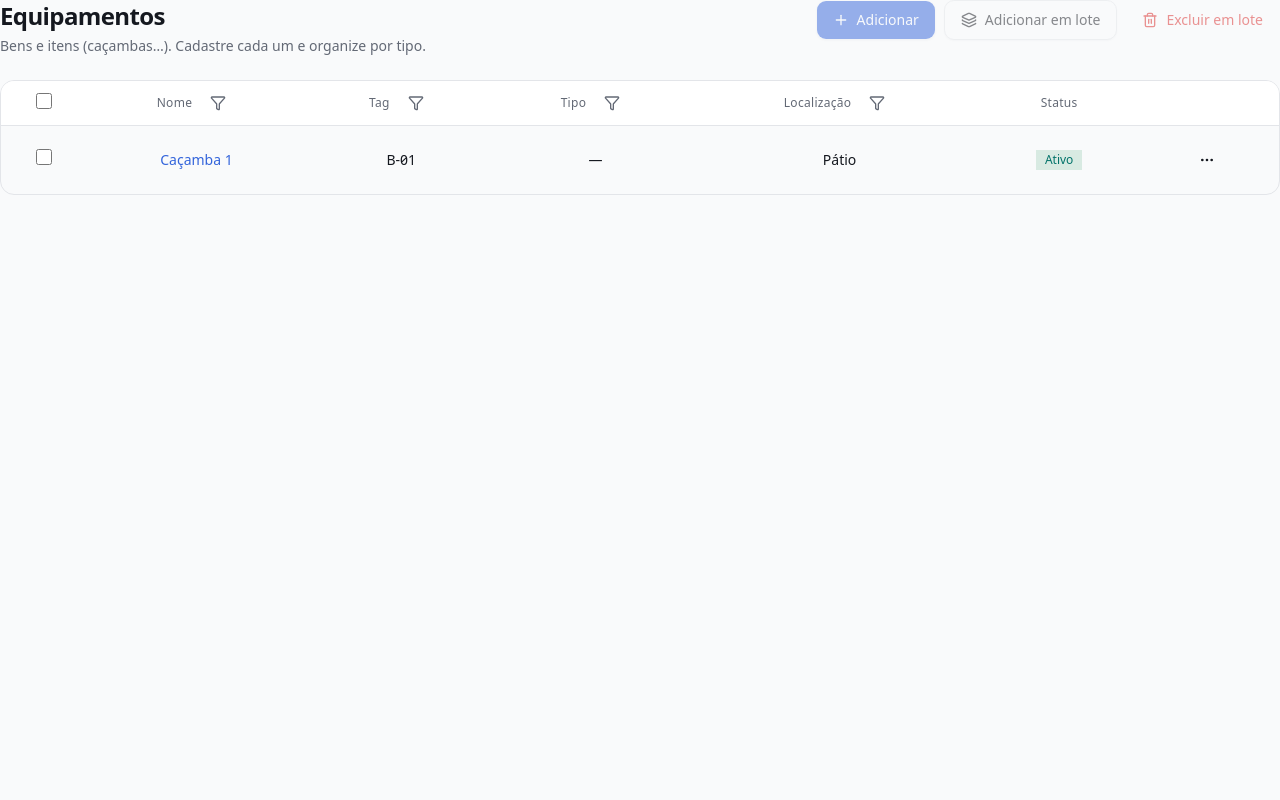
AssetsPage permission-aware load › shows the name and opens the existing view (write access: true)
Check: the column heading "Nome" is shown, box [86,81,307,125]
Click the button "Caçamba 1".
click(196, 160)  # box [159,138,234,182]
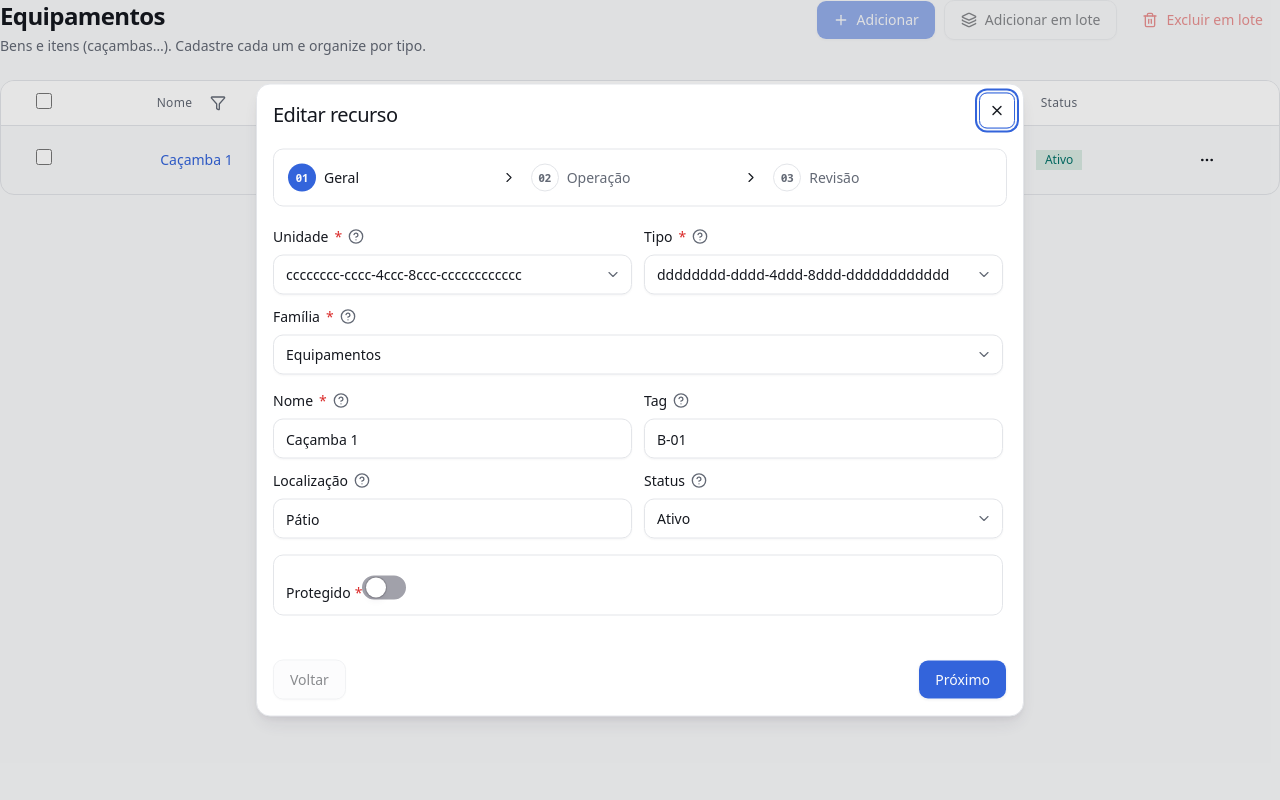
Check: the field labelled "Nome *" holds "Caçamba 1", box [273,418,632,458]
